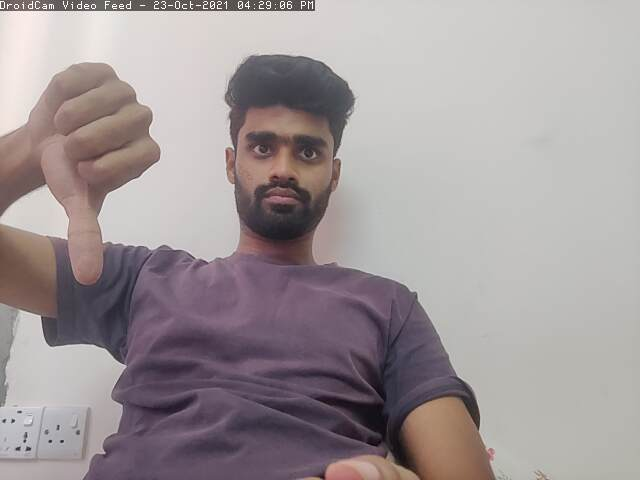ThumbsDown: (29, 50, 163, 286)
